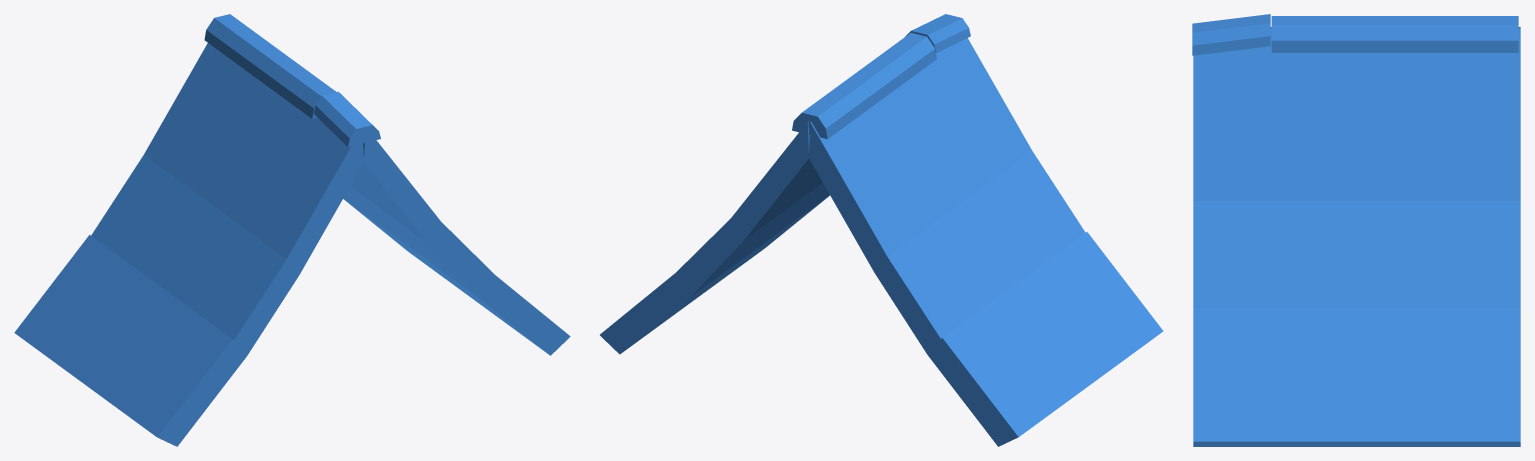
The model's file is Collision_Roof_FlatTiles_6x4.fbx.
3 renders of one model, left to right at view 1: azimuth 30°, elevation 25°; view 2: azimuth 150°, elevation 25°; view 3: azimuth 270°, elevation 25°, orthographic. The views are drawn at different scales.
Parts seen in each view (by area): view 1: UCX_Roof_FlatTiles_6x4_01; view 2: UCX_Roof_FlatTiles_6x4_01; view 3: UCX_Roof_FlatTiles_6x4_01.
Boxes of the visible parts, x1,y1,x2,y2 form: UCX_Roof_FlatTiles_6x4_01: [14, 14, 570, 446]; UCX_Roof_FlatTiles_6x4_01: [600, 14, 1163, 446]; UCX_Roof_FlatTiles_6x4_01: [1192, 14, 1520, 446].
Bounding box in the file's own units: 838 × 548 × 503.
